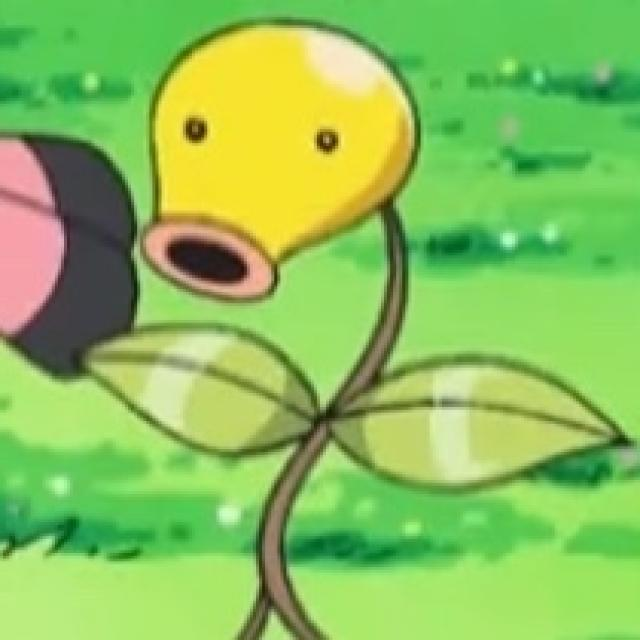Bellsprout: (131, 14, 467, 621)
